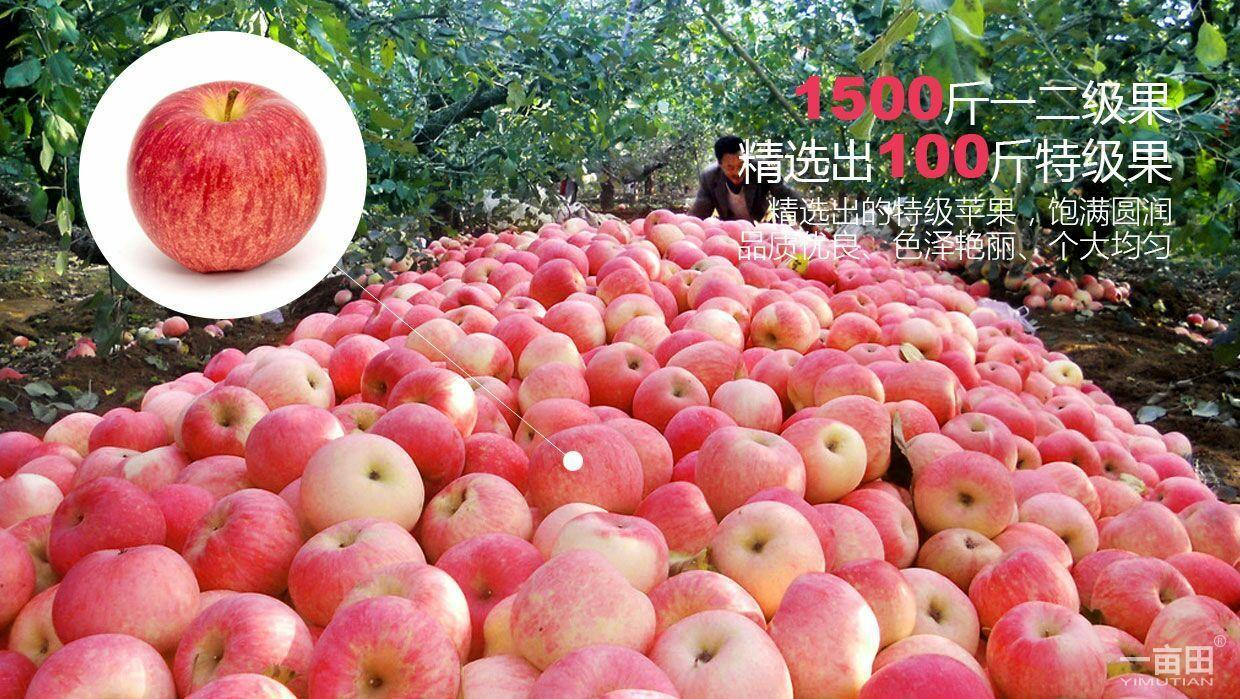apple: (122, 74, 328, 275), (508, 548, 663, 673), (164, 590, 315, 697), (51, 545, 202, 652), (308, 592, 459, 699), (709, 500, 827, 622), (299, 430, 426, 537), (771, 576, 875, 693), (988, 599, 1108, 695), (184, 486, 298, 582), (796, 393, 895, 494), (49, 477, 165, 561), (531, 423, 642, 510), (698, 423, 805, 513), (911, 446, 1018, 536), (968, 543, 1083, 621), (1088, 556, 1196, 639), (425, 468, 532, 551), (242, 405, 345, 484), (862, 637, 997, 697), (782, 415, 870, 504), (895, 567, 980, 655), (179, 383, 272, 462), (387, 365, 478, 433), (631, 366, 712, 426), (881, 358, 962, 418), (586, 342, 661, 406), (243, 353, 333, 406)
